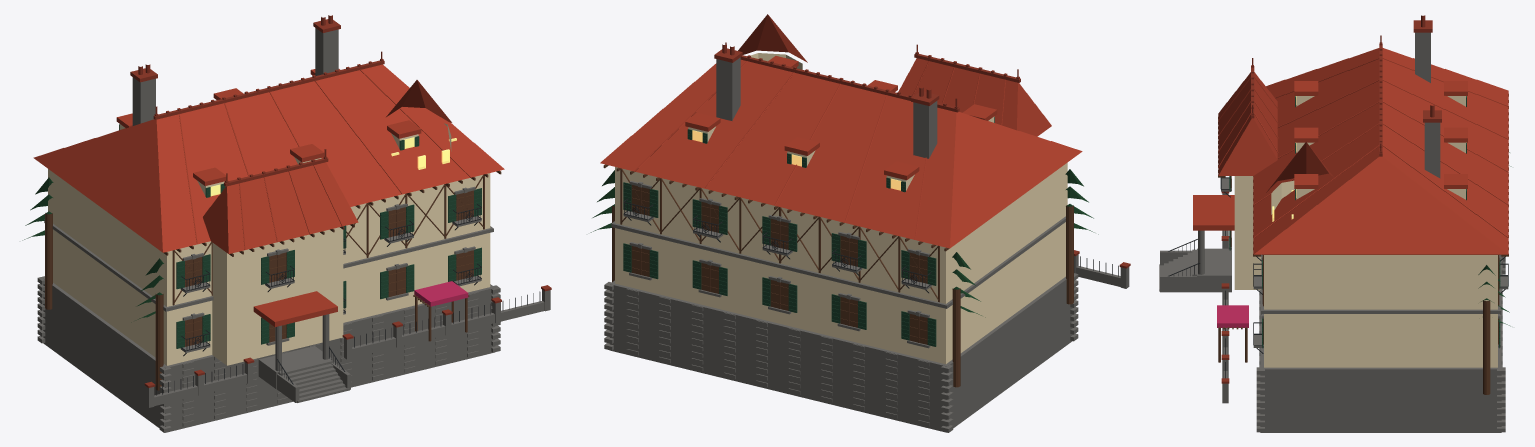
The model's file is fv_cb_04_cuc_ban_do_dalat_mansard_main_hq.glb.
3 views of the same model, side by side, from view 1: azimuth 30°, elevation 25°; view 2: azimuth 150°, elevation 25°; view 3: azimuth 270°, elevation 25° (orthographic). The views are drawn at different scales.
Parts seen in each view (by area): view 1: marseille_corrugated_roof_tiles, stucco_facade_and_dormers, granite_foundation_and_stairs, colombage_timber_and_eaves, pine_green_louvered_shutters, ridge_cresting_and_chimneys, wrought_iron_balconies_3d, bougainvillea_pergola_clusters, pine_trees_and_garden_hedges, warm_night_windows_ffb86c; view 2: marseille_corrugated_roof_tiles, granite_foundation_and_stairs, stucco_facade_and_dormers, colombage_timber_and_eaves, pine_green_louvered_shutters, ridge_cresting_and_chimneys, wrought_iron_balconies_3d, pine_trees_and_garden_hedges; view 3: marseille_corrugated_roof_tiles, stucco_facade_and_dormers, granite_foundation_and_stairs, colombage_timber_and_eaves, ridge_cresting_and_chimneys, bougainvillea_pergola_clusters, wrought_iron_balconies_3d, pine_green_louvered_shutters.
Part boxes in pixels (<box>): marseille_corrugated_roof_tiles: <box>33,64,504,326</box>; stucco_facade_and_dormers: <box>48,123,490,365</box>; granite_foundation_and_stairs: <box>37,28,550,432</box>; colombage_timber_and_eaves: <box>45,170,501,390</box>; pine_green_louvered_shutters: <box>119,124,481,348</box>; ridge_cresting_and_chimneys: <box>130,15,551,387</box>; wrought_iron_balconies_3d: <box>156,204,540,395</box>; bougainvillea_pergola_clusters: <box>414,281,468,306</box>; pine_trees_and_garden_hedges: <box>22,177,163,322</box>; warm_night_windows_ffb86c: <box>210,137,456,196</box>; marseille_corrugated_roof_tiles: <box>600,14,1082,248</box>; granite_foundation_and_stairs: <box>604,57,1129,432</box>; stucco_facade_and_dormers: <box>615,53,1067,364</box>; colombage_timber_and_eaves: <box>603,164,1073,387</box>; pine_green_louvered_shutters: <box>623,117,994,346</box>; ridge_cresting_and_chimneys: <box>714,42,1130,268</box>; wrought_iron_balconies_3d: <box>623,199,1118,293</box>; pine_trees_and_garden_hedges: <box>590,169,1098,317</box>; marseille_corrugated_roof_tiles: <box>1193,48,1508,254</box>; stucco_facade_and_dormers: <box>1234,96,1497,367</box>; granite_foundation_and_stairs: <box>1159,32,1508,432</box>; colombage_timber_and_eaves: <box>1218,94,1508,394</box>; ridge_cresting_and_chimneys: <box>1221,15,1441,383</box>; bougainvillea_pergola_clusters: <box>1217,305,1248,327</box>; wrought_iron_balconies_3d: <box>1168,177,1508,378</box>; pine_green_louvered_shutters: <box>1229,96,1500,348</box>.
Size of the model in its own units: 30.92 by 21.43 by 24.42.
